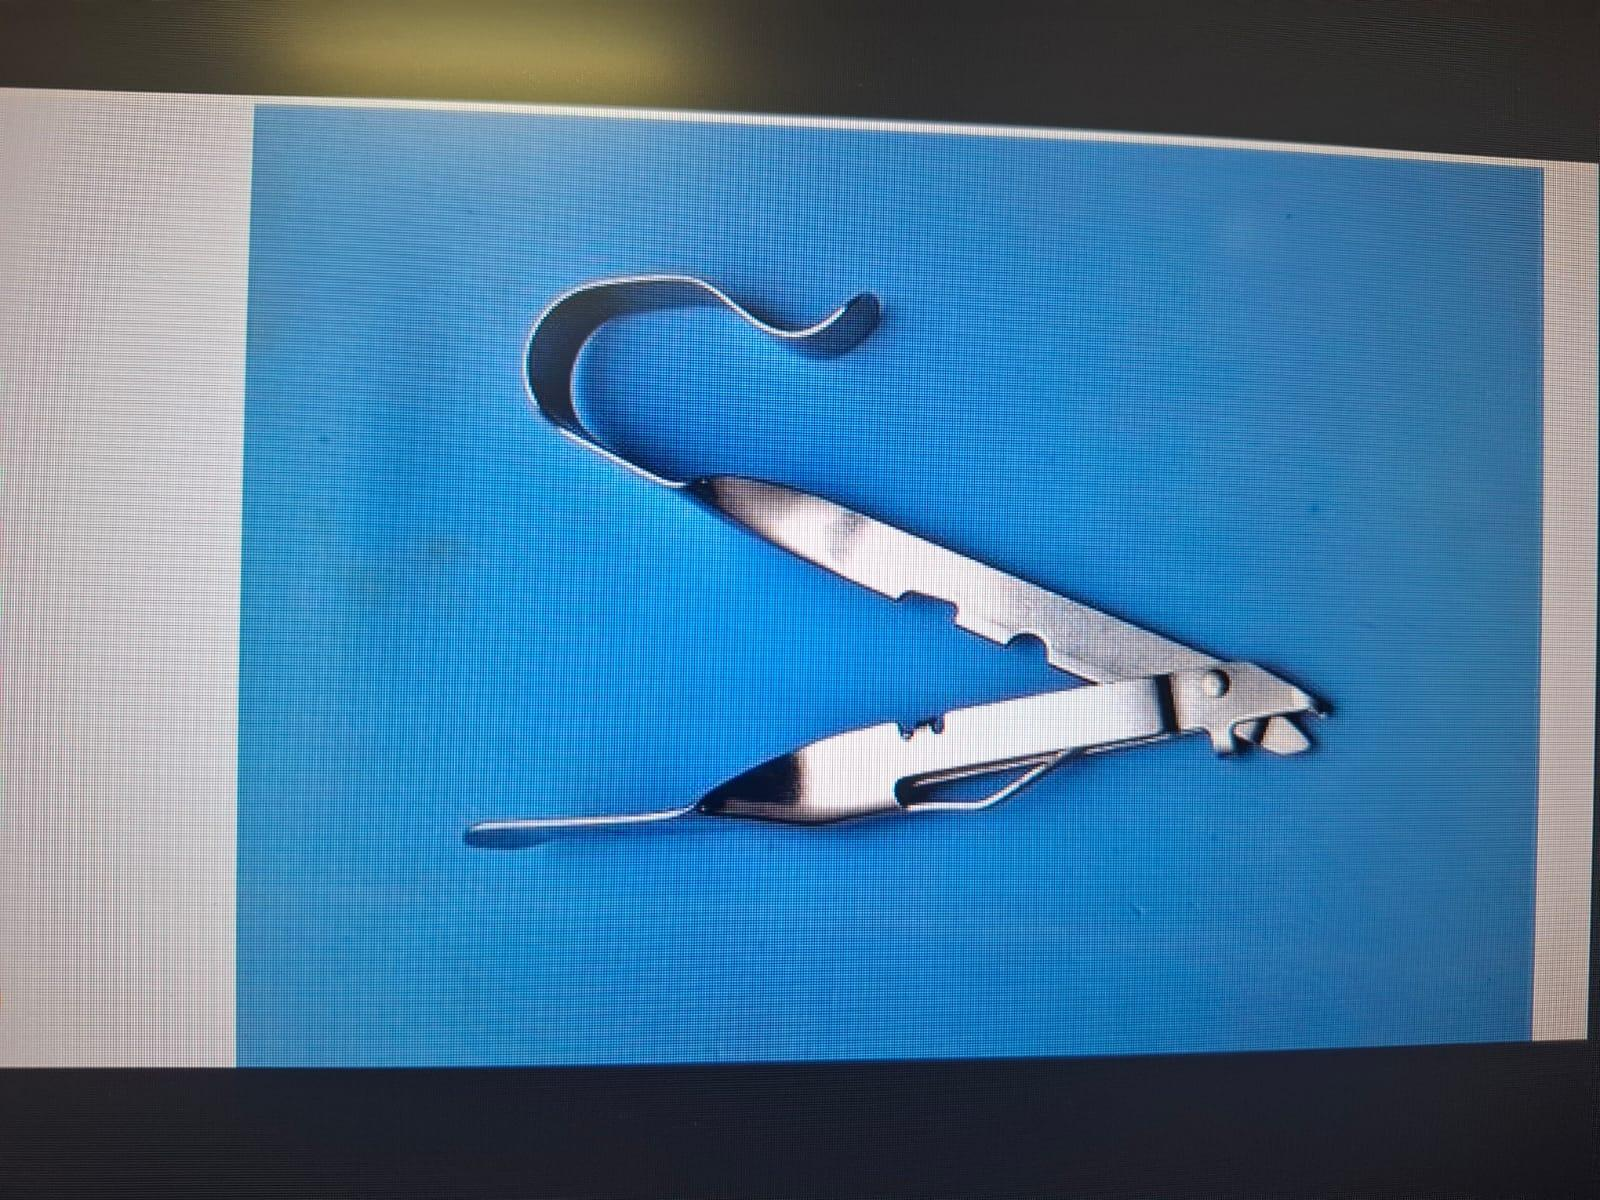Stapler Remover: (443, 266, 1342, 882)
